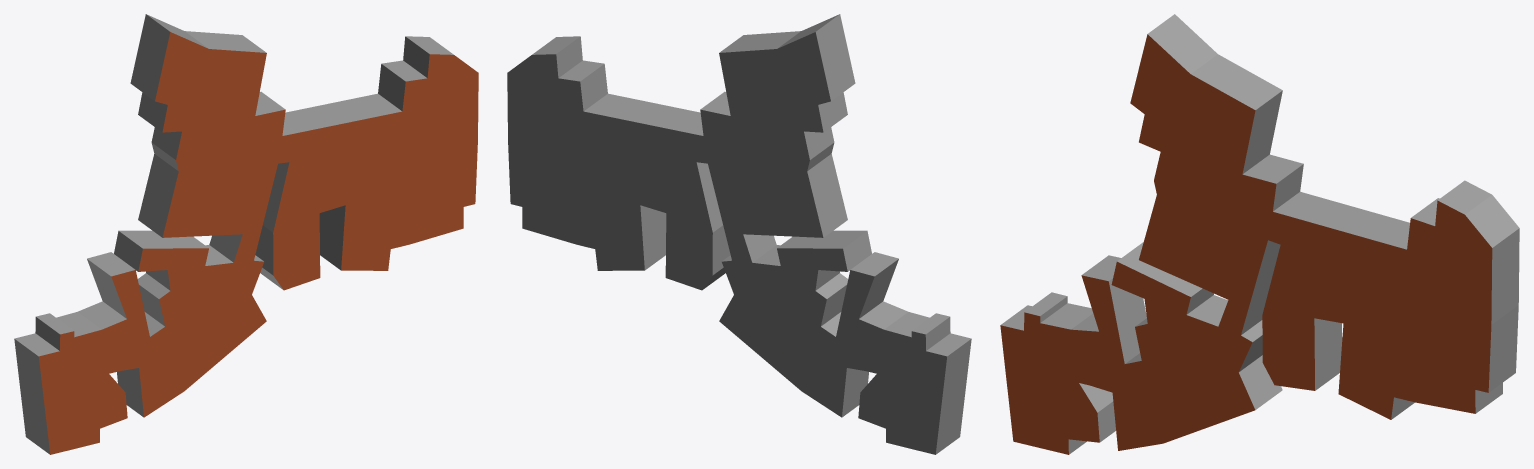
Rendered from construction_2357_assumed_A_Casa_h6m.obj.
3 views of the same model, side by side, from view 1: azimuth 30°, elevation 25°; view 2: azimuth 150°, elevation 25°; view 3: azimuth 330°, elevation 25° (orthographic). The views are drawn at different scales.
Visible parts, largest first — view 1: construction_2357_assumed_A_Casa; view 2: construction_2357_assumed_A_Casa; view 3: construction_2357_assumed_A_Casa.
Boxes of the visible parts, x1,y1,x2,y2 form: construction_2357_assumed_A_Casa: [14, 14, 478, 454]; construction_2357_assumed_A_Casa: [507, 14, 971, 454]; construction_2357_assumed_A_Casa: [1000, 14, 1519, 454].
Size of the model in its own units: 62.3 by 53.28 by 6.
